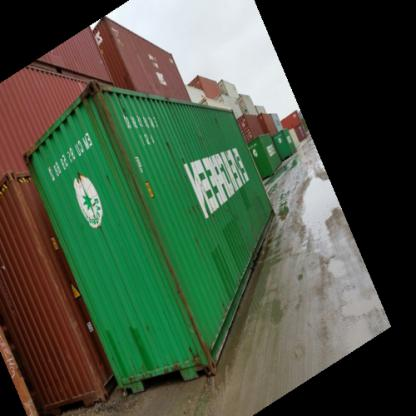Damage: (89, 78, 157, 246), (157, 237, 208, 362)
